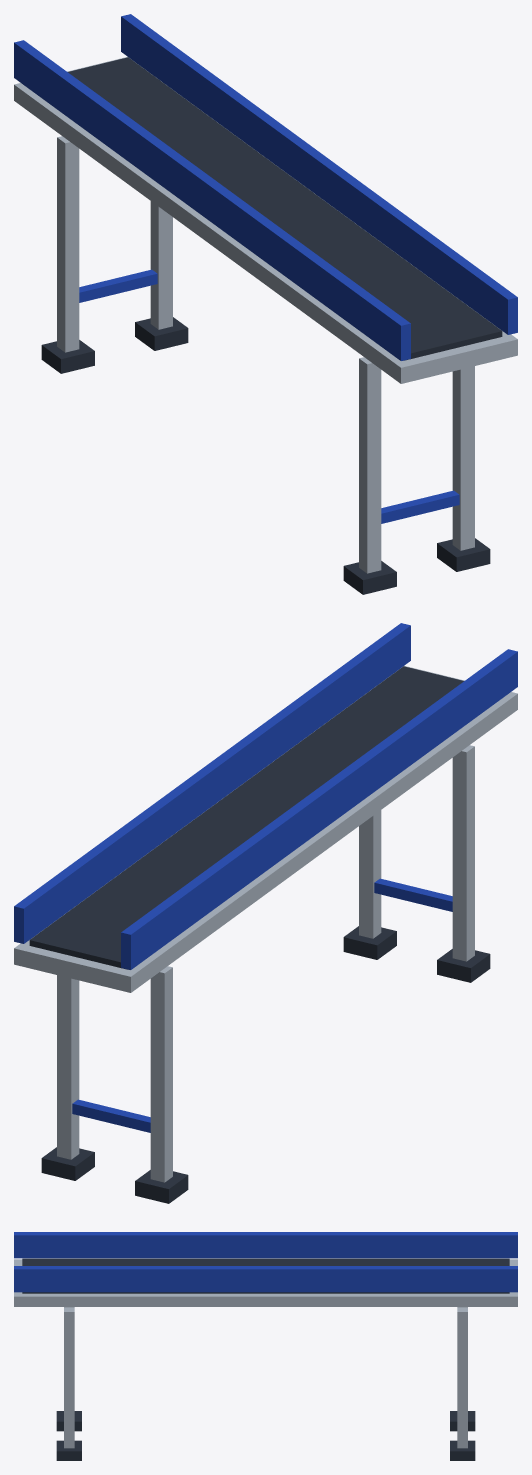
The model's file is SM_MPR_SorterOutput.fbx.
3 renders of one model, top to bottom at view 1: azimuth 30°, elevation 25°; view 2: azimuth 150°, elevation 25°; view 3: azimuth 270°, elevation 25°, orthographic. The views are drawn at different scales.
Parts seen in each view (by area): view 1: SM_MPR_SorterOutput; view 2: SM_MPR_SorterOutput; view 3: SM_MPR_SorterOutput.
Part boxes in pixels (x1,y1,x2,y2): SM_MPR_SorterOutput: [14, 14, 517, 594]; SM_MPR_SorterOutput: [14, 623, 517, 1203]; SM_MPR_SorterOutput: [14, 1232, 517, 1460].
Bounding box in the file's own units: 45.2 × 238 × 99.
